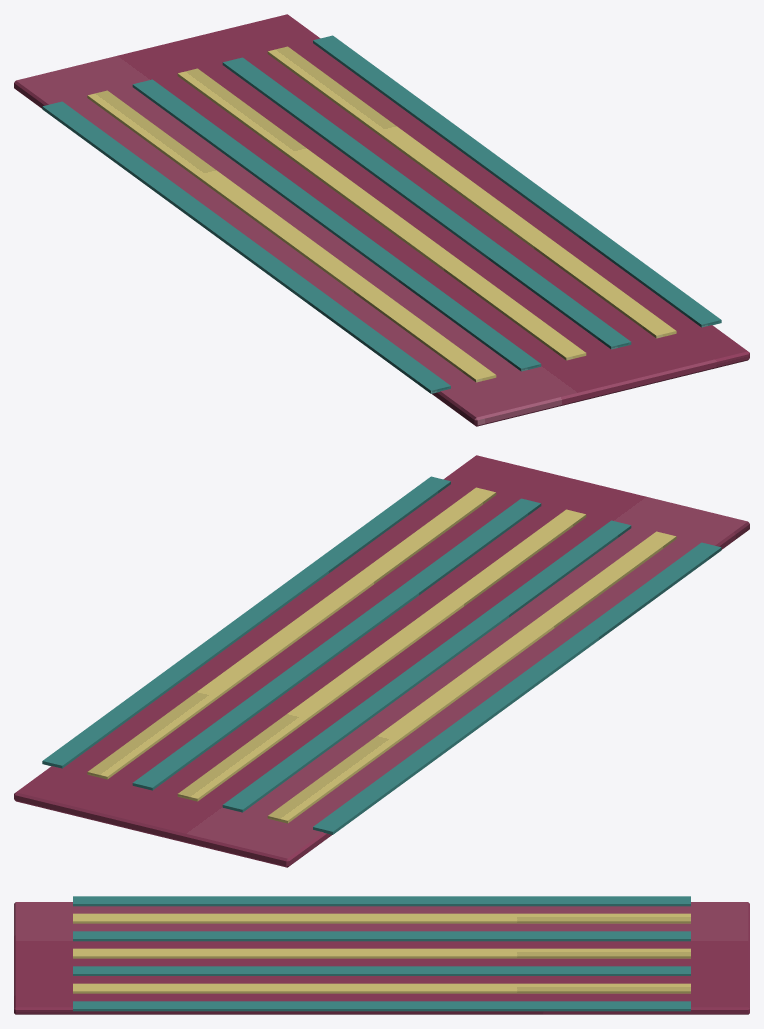
The model's file is arcade_carpet_runner.glb.
3 views of the same model, one above another, from view 1: azimuth 30°, elevation 25°; view 2: azimuth 150°, elevation 25°; view 3: azimuth 270°, elevation 25° (orthographic). The views are drawn at different scales.
Parts seen in each view (by area): view 1: CarpetBase, PixelStripe_-3, PixelStripe_3, PixelStripe_2, PixelStripe_1, PixelStripe_0, PixelStripe_-2, PixelStripe_-1; view 2: CarpetBase, PixelStripe_-3, PixelStripe_3, PixelStripe_2, PixelStripe_1, PixelStripe_0, PixelStripe_-2, PixelStripe_-1; view 3: CarpetBase, PixelStripe_0, PixelStripe_2, PixelStripe_3, PixelStripe_-1, PixelStripe_-2, PixelStripe_-3, PixelStripe_1.
Boxes of the visible parts, box(x1,y1,x2,y2) form: CarpetBase: box(14, 14, 749, 426); PixelStripe_-3: box(42, 101, 450, 393); PixelStripe_3: box(313, 35, 721, 327); PixelStripe_2: box(267, 46, 676, 338); PixelStripe_1: box(222, 57, 631, 349); PixelStripe_0: box(177, 68, 586, 360); PixelStripe_-2: box(87, 90, 496, 382); PixelStripe_-1: box(132, 79, 541, 371); CarpetBase: box(14, 455, 749, 867); PixelStripe_-3: box(313, 542, 721, 834); PixelStripe_3: box(42, 476, 450, 768); PixelStripe_2: box(87, 487, 496, 779); PixelStripe_1: box(132, 498, 541, 790); PixelStripe_0: box(177, 509, 586, 801); PixelStripe_-2: box(267, 531, 676, 823); PixelStripe_-1: box(222, 520, 631, 812); CarpetBase: box(14, 902, 749, 1014); PixelStripe_0: box(73, 948, 690, 958); PixelStripe_2: box(73, 983, 690, 993); PixelStripe_3: box(73, 1001, 690, 1011); PixelStripe_-1: box(73, 931, 690, 941); PixelStripe_-2: box(73, 913, 690, 923); PixelStripe_-3: box(73, 896, 690, 906); PixelStripe_1: box(73, 966, 690, 975).
Size of the model in its own units: 1.16 by 0.0455 by 3.2.
Materials: 1 (1 with a texture image).
